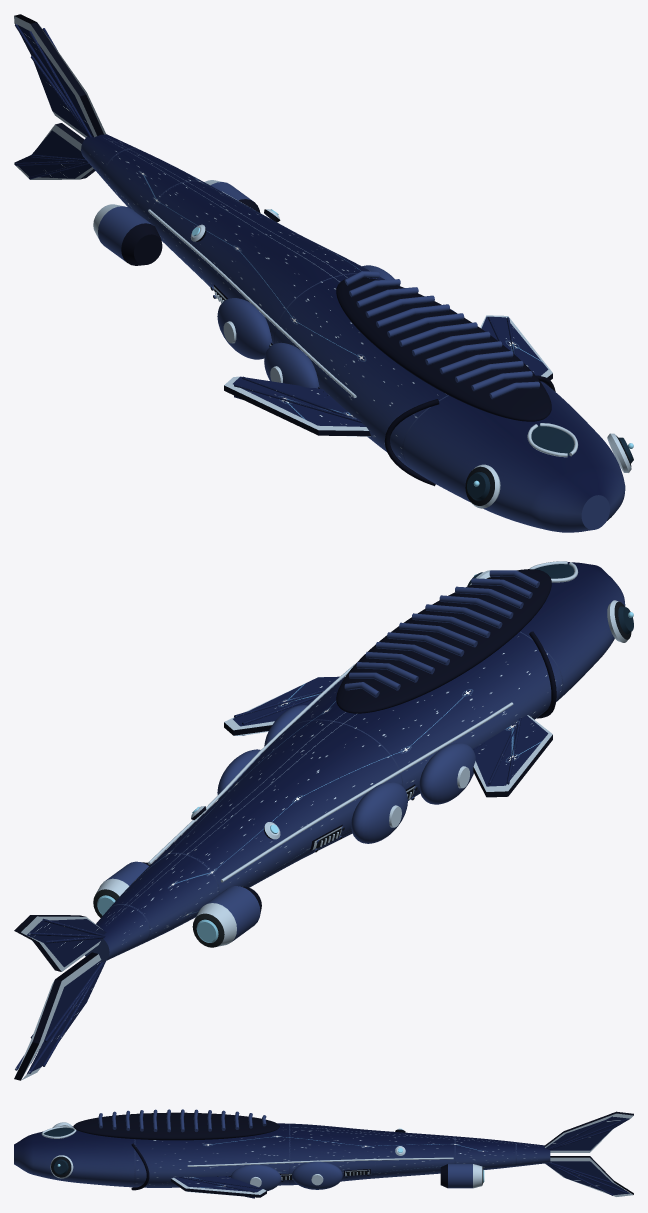
3 views of the same model, one above another, from view 1: azimuth 30°, elevation 25°; view 2: azimuth 150°, elevation 25°; view 3: azimuth 270°, elevation 25° (orthographic). The views are drawn at different scales.
Visible parts, largest first — view 1: remora_hull; view 2: remora_hull; view 3: remora_hull.
Boxes of the visible parts, x1,y1,x2,y2 form: remora_hull: [14, 14, 633, 532]; remora_hull: [14, 561, 633, 1080]; remora_hull: [14, 1109, 633, 1198].
Bounding box in the file's own units: 18.16 × 9.53 × 64.
Materials: 1 (1 with a texture image).
